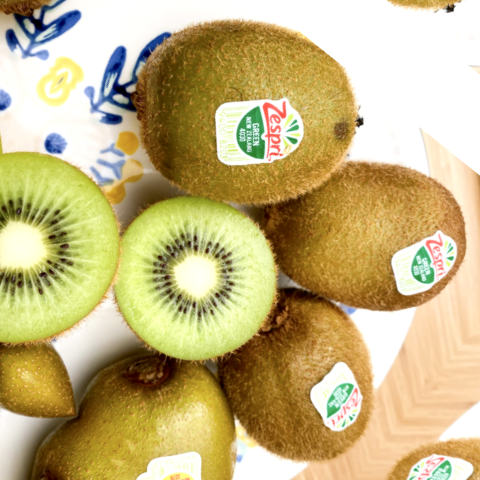kiwi: (83, 0, 409, 288), (234, 102, 480, 368), (176, 255, 426, 480)
